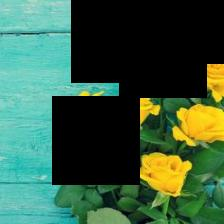yellow: (133, 153, 193, 197), (119, 17, 188, 51), (174, 104, 224, 146), (188, 44, 224, 102), (103, 96, 160, 126), (62, 91, 103, 124)
